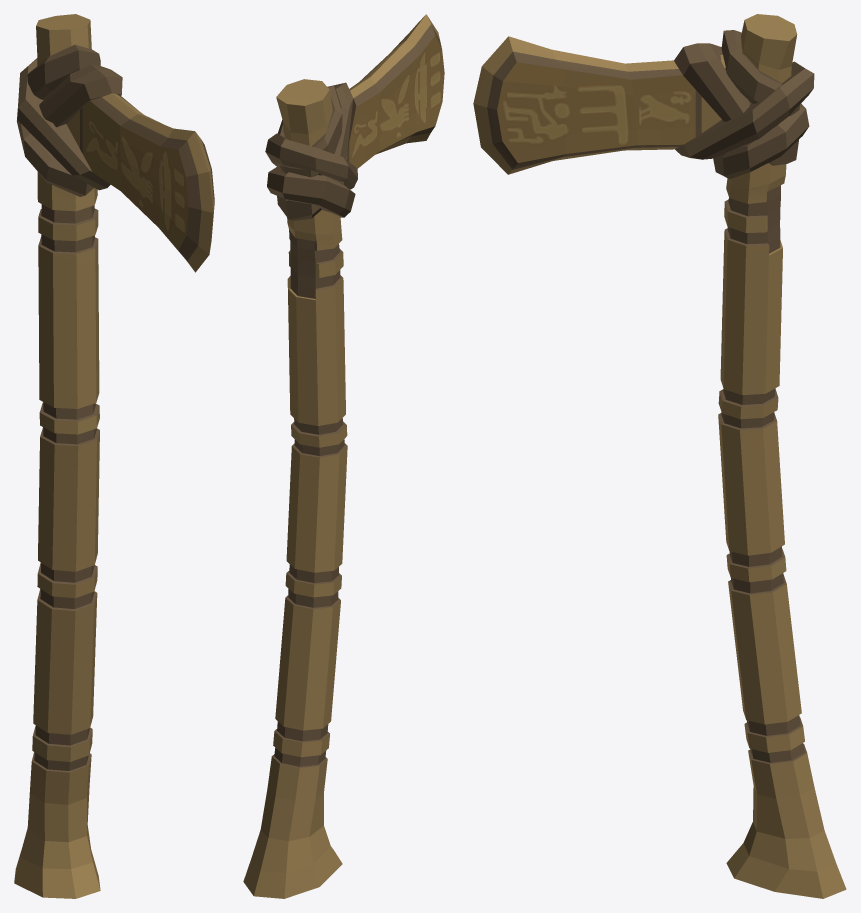
Rendered from SM_Wep_Axe_01.fbx.
3 renders of one model, left to right at view 1: azimuth 30°, elevation 25°; view 2: azimuth 150°, elevation 25°; view 3: azimuth 270°, elevation 25°, orthographic. The views are drawn at different scales.
Visible parts, largest first — view 1: SM_Wep_Axe_01; view 2: SM_Wep_Axe_01; view 3: SM_Wep_Axe_01.
Part boxes in pixels (<box>): SM_Wep_Axe_01: <box>14,14,214,898</box>; SM_Wep_Axe_01: <box>243,14,444,898</box>; SM_Wep_Axe_01: <box>473,14,846,898</box>.
Size of the model in its own units: 12.54 by 118 by 46.39.
